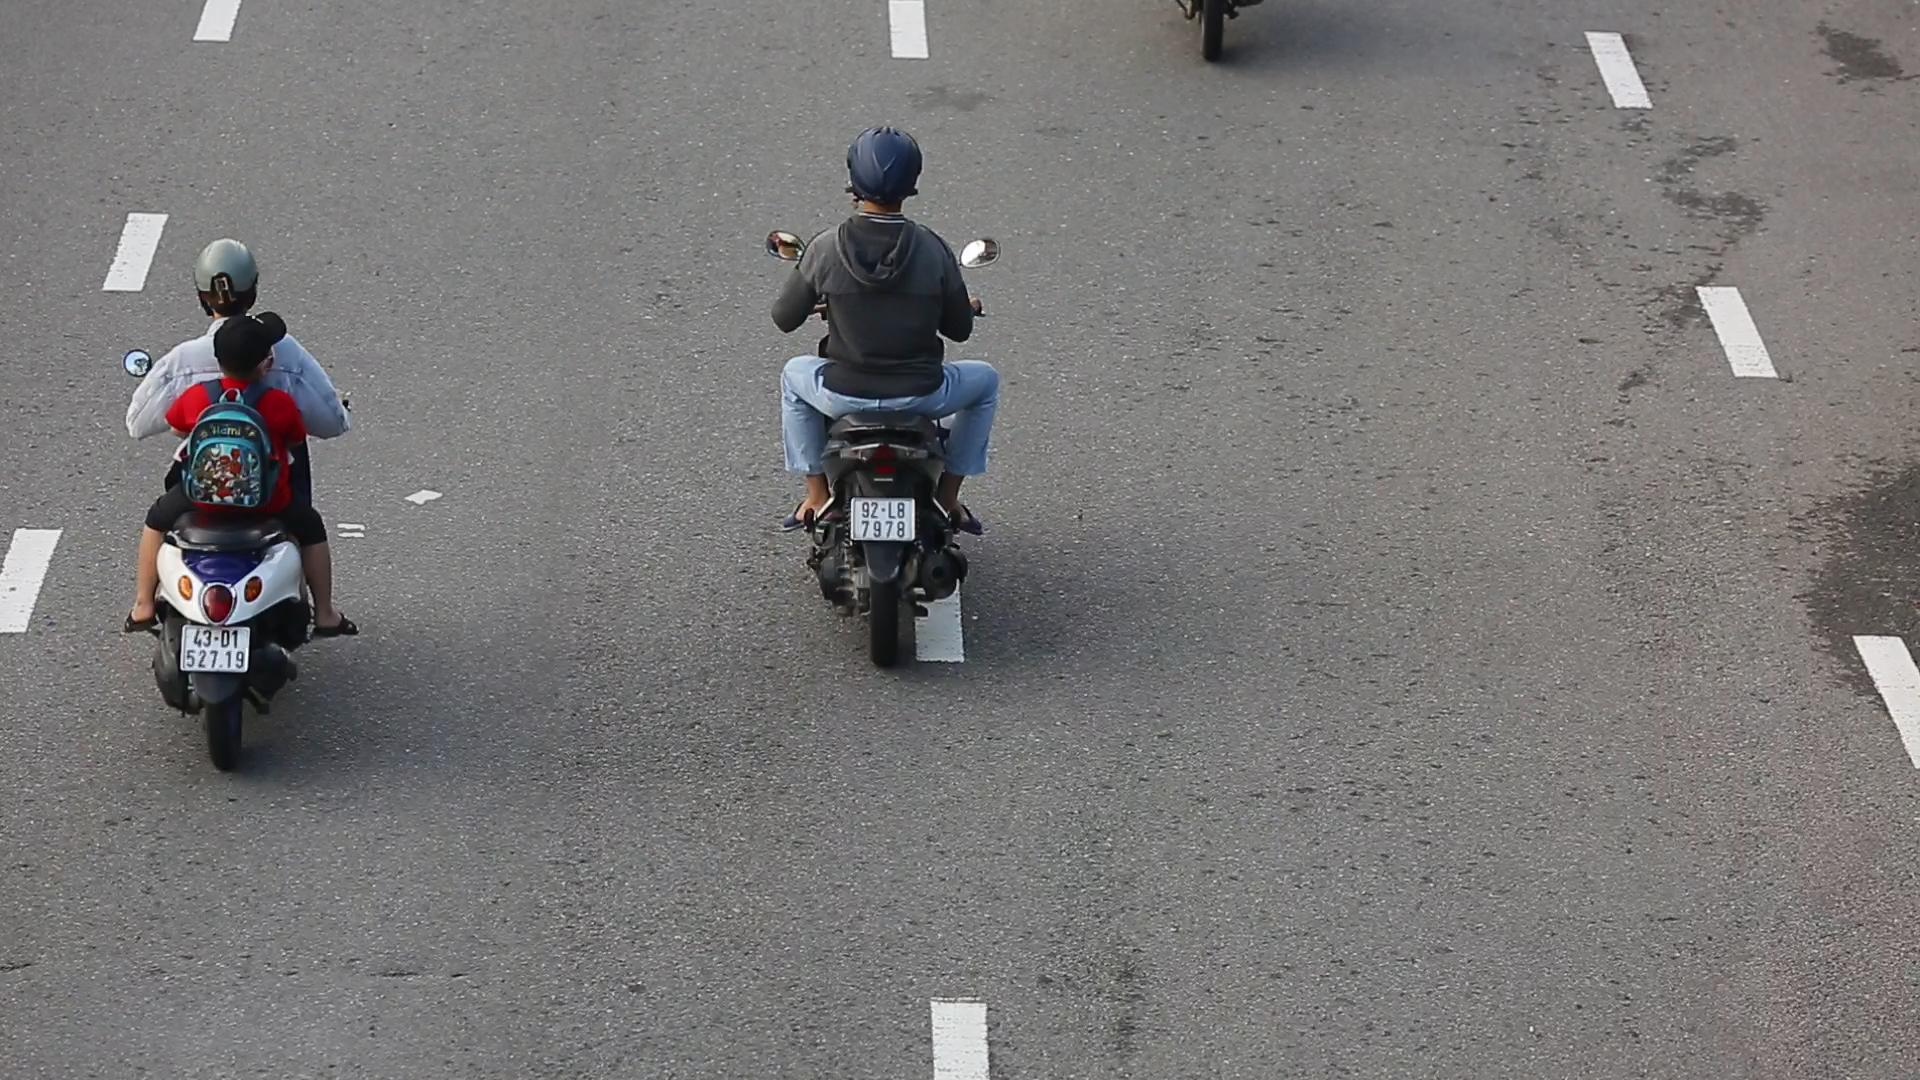motobike: (99, 235, 372, 778), (761, 123, 1017, 665)
